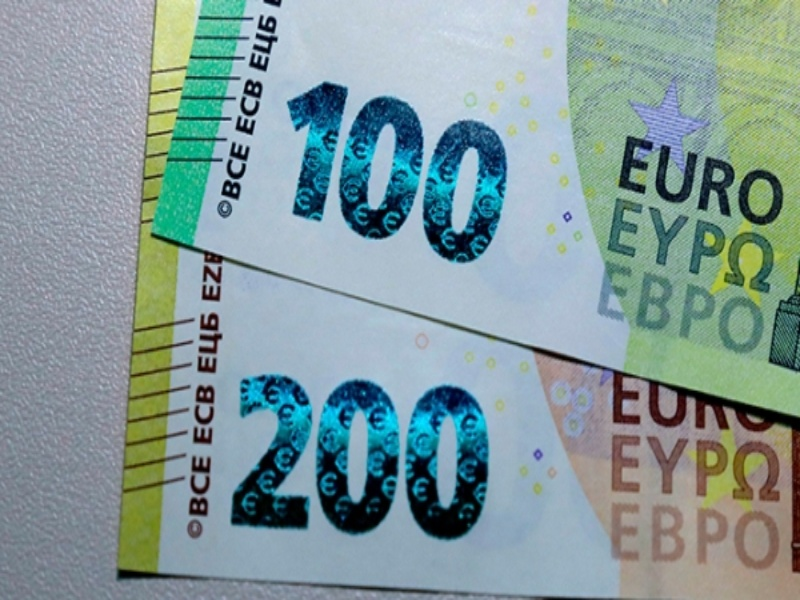cash: (117, 1, 800, 600)
